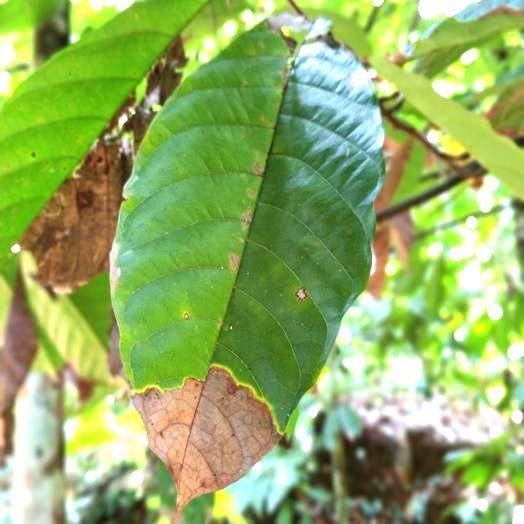Potassium: (112, 19, 383, 506)
